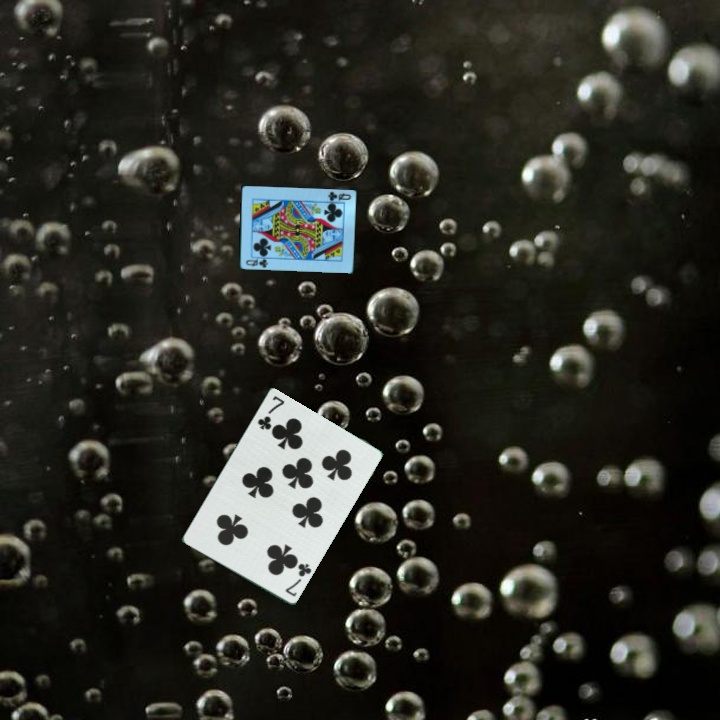7c: (254, 393, 287, 433), (282, 560, 314, 600)
Qc: (325, 188, 353, 204), (242, 256, 270, 271)
